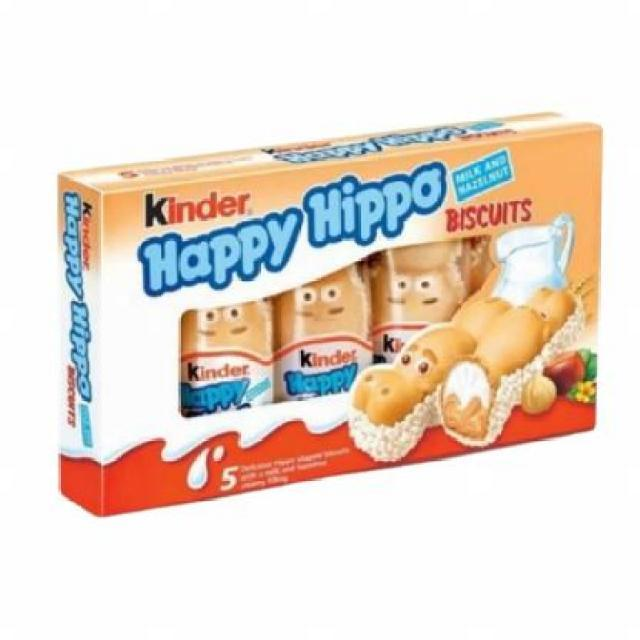Merendine: (44, 111, 613, 520)
